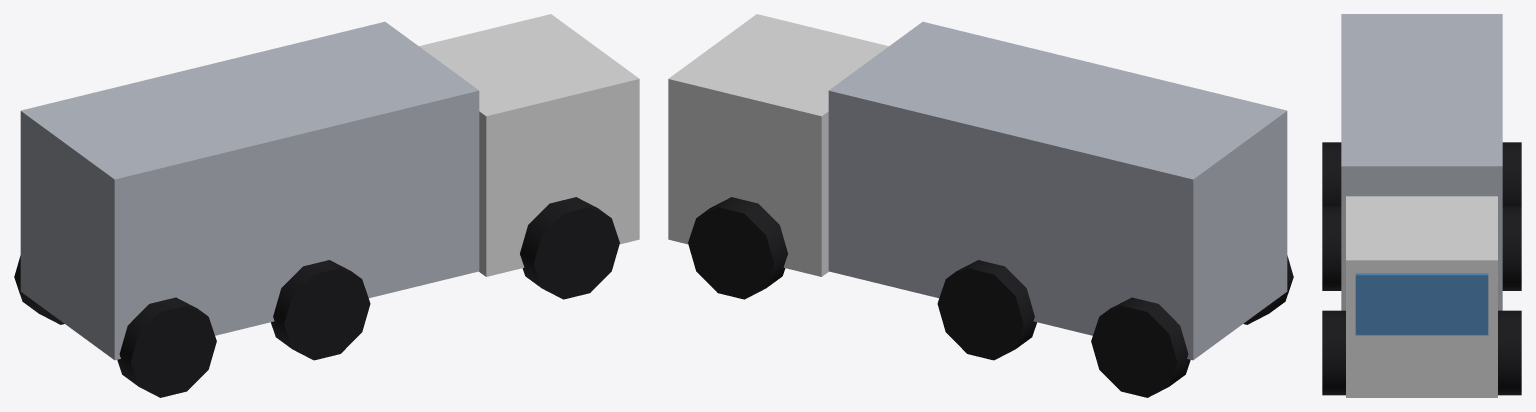
File: truck_2012.glb
3 renders of one model, left to right at view 1: azimuth 30°, elevation 25°; view 2: azimuth 150°, elevation 25°; view 3: azimuth 270°, elevation 25°, orthographic. The views are drawn at different scales.
Visible parts, largest first — view 1: Cargo, Cab, truck_w2_1, truck_w0_1, truck_w1_1; view 2: Cargo, Cab, truck_w2_-1, truck_w0_-1, truck_w1_-1; view 3: Cargo, Cab, Windscreen, truck_w2_-1, truck_w2_1, truck_w1_-1, truck_w1_1, truck_w0_-1, truck_w0_1.
Boxes of the visible parts, x1=… form: Cargo: x1=20, y1=21, x2=479, y2=360; Cab: x1=419, y1=14, x2=639, y2=276; truck_w2_1: x1=520, y1=197, x2=619, y2=299; truck_w0_1: x1=117, y1=297, x2=216, y2=397; truck_w1_1: x1=271, y1=260, x2=370, y2=360; Cargo: x1=828, y1=21, x2=1287, y2=360; Cab: x1=668, y1=14, x2=888, y2=276; truck_w2_-1: x1=688, y1=197, x2=787, y2=299; truck_w0_-1: x1=1091, y1=297, x2=1190, y2=397; truck_w1_-1: x1=937, y1=260, x2=1036, y2=360; Cargo: x1=1341, y1=14, x2=1502, y2=310; Cab: x1=1346, y1=196, x2=1497, y2=397; Windscreen: x1=1355, y1=273, x2=1488, y2=335; truck_w2_-1: x1=1498, y1=310, x2=1521, y2=395; truck_w2_1: x1=1322, y1=310, x2=1345, y2=395; truck_w1_-1: x1=1502, y1=206, x2=1521, y2=290; truck_w1_1: x1=1322, y1=206, x2=1341, y2=290; truck_w0_-1: x1=1502, y1=142, x2=1521, y2=206; truck_w0_1: x1=1322, y1=142, x2=1341, y2=206.
Size of the model in its own units: 0.555 by 0.2178 by 0.21.
